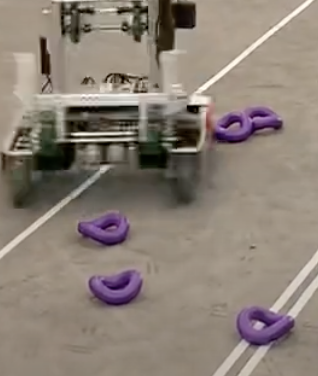ring: (235, 305, 295, 344), (77, 211, 130, 245), (89, 270, 142, 304), (213, 111, 252, 143), (244, 106, 284, 133)
